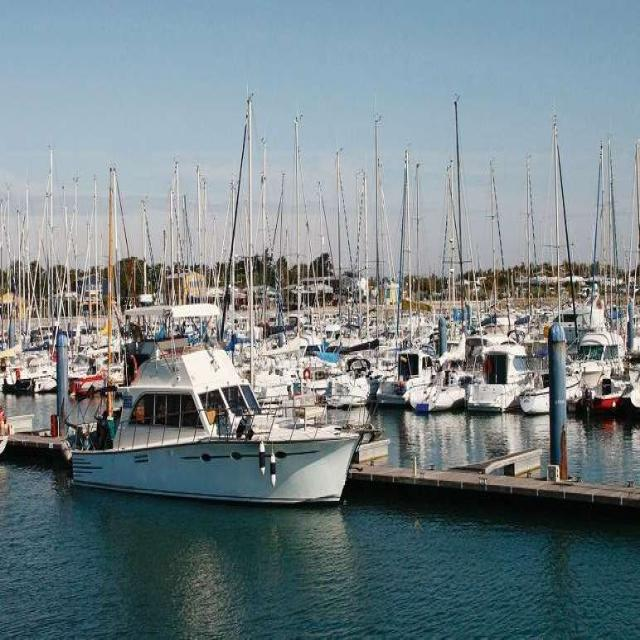houseboat: (52, 337, 356, 518), (470, 325, 528, 407)
